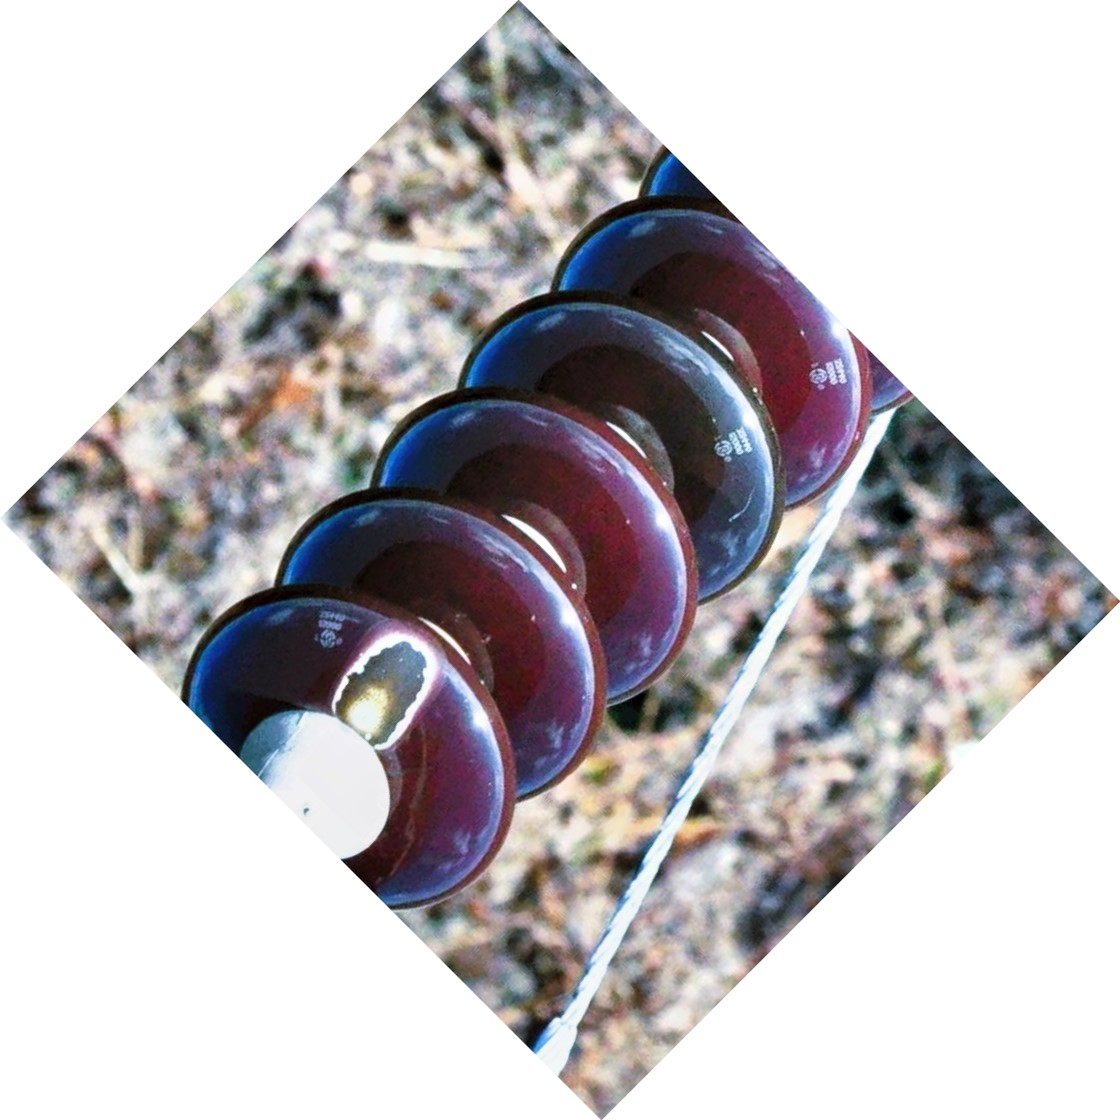Insulator flashover: (156, 582, 525, 920)
